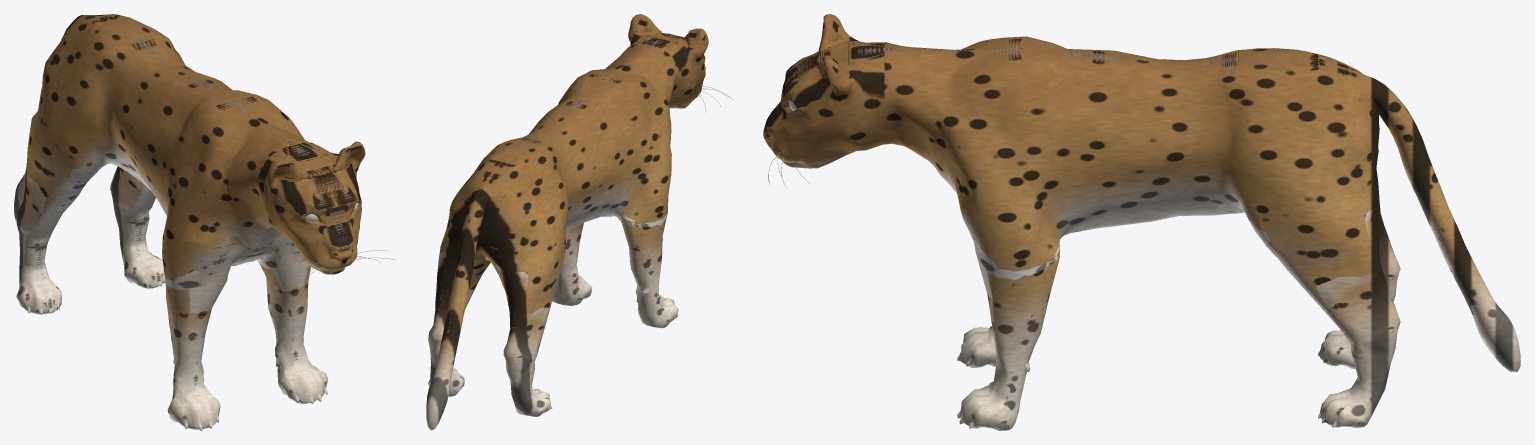
The model's file is ccby-leopard-cat.glb.
The picture shows the model from 3 angles, left to right: view 1: azimuth 30°, elevation 25°; view 2: azimuth 150°, elevation 25°; view 3: azimuth 270°, elevation 25°; orthographic projection. The views are drawn at different scales.
Parts seen in each view (by area): view 1: Object_11; view 2: Object_11; view 3: Object_11.
Part boxes in pixels (left/top/right/bottom): Object_11: left=14, top=14, right=365, bottom=430; Object_11: left=426, top=14, right=708, bottom=430; Object_11: left=763, top=14, right=1520, bottom=430.
Size of the model in its own units: 0.67 by 1.3 by 2.5.
4 materials, 2 textured.
